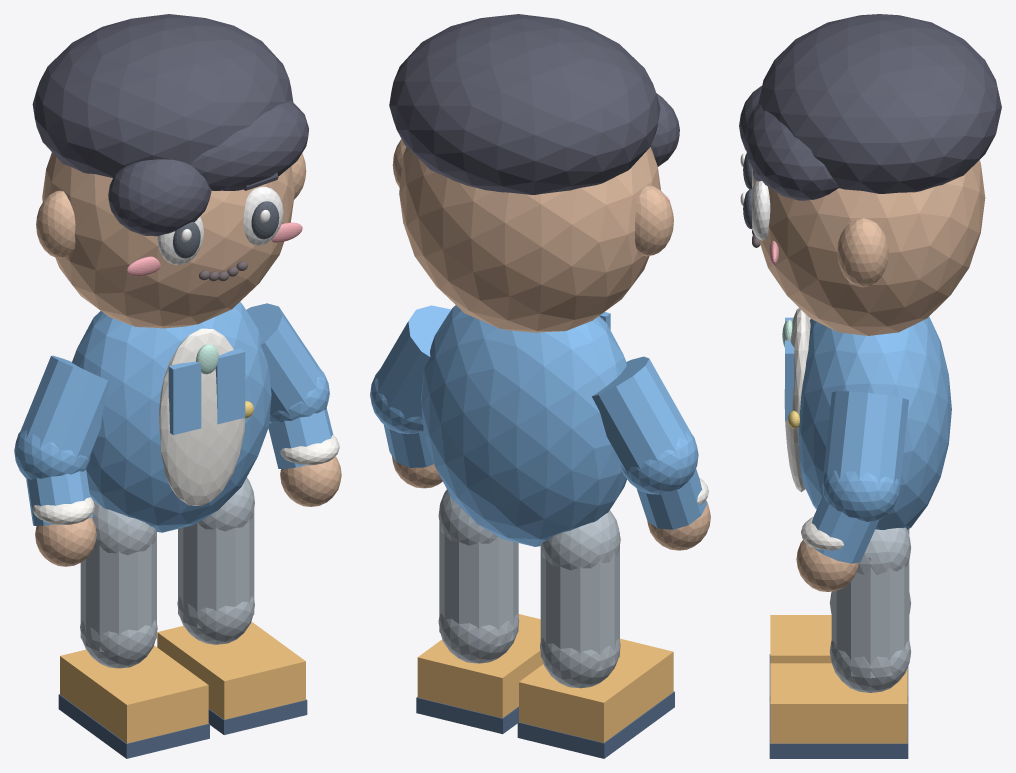
The model's file is avatar_ai_finance.glb.
3 views of the same model, side by side, from view 1: azimuth 30°, elevation 25°; view 2: azimuth 150°, elevation 25°; view 3: azimuth 270°, elevation 25° (orthographic). The views are drawn at different scales.
Parts seen in each view (by area): view 1: hair_cap, torso, head, L_shoe, R_shoe, shirt_front, R_leg, fringe, L_leg, hair_sweep, L_sleeve_upper, R_sleeve_upper (+21 smaller); view 2: hair_cap, torso, head, L_shoe, R_shoe, L_leg, R_leg, L_sleeve_upper, R_sleeve_upper, L_leg_top, L_sole, L_elbow (+11 smaller); view 3: hair_cap, head, torso, R_shoe, R_sleeve_upper, R_leg, hair_sweep, L_shoe, R_elbow, ear_R, R_leg_bottom, R_sole (+8 smaller).
Part boxes in pixels (<box>): hair_cap: <box>32,14,293,177</box>; torso: <box>72,302,271,532</box>; head: <box>42,152,294,328</box>; L_shoe: <box>60,645,208,743</box>; R_shoe: <box>157,621,305,719</box>; shirt_front: <box>159,328,245,505</box>; R_leg: <box>178,495,254,630</box>; fringe: <box>108,159,211,236</box>; L_leg: <box>80,532,156,653</box>; hair_sweep: <box>190,100,308,190</box>; L_sleeve_upper: <box>18,355,110,464</box>; R_sleeve_upper: <box>246,303,324,419</box>; hair_cap: <box>389,14,660,194</box>; torso: <box>421,305,626,546</box>; head: <box>399,147,660,332</box>; L_shoe: <box>519,638,673,742</box>; R_shoe: <box>417,614,543,718</box>; L_leg: <box>540,533,619,672</box>; R_leg: <box>439,508,518,648</box>; L_sleeve_upper: <box>592,356,692,475</box>; R_sleeve_upper: <box>374,305,450,421</box>; L_leg_top: <box>540,510,620,570</box>; L_sole: <box>517,691,674,758</box>; L_elbow: <box>620,430,698,494</box>; hair_cap: <box>758,14,1001,193</box>; head: <box>753,160,985,335</box>; torso: <box>798,316,951,529</box>; R_shoe: <box>770,663,907,743</box>; R_sleeve_upper: <box>823,391,908,488</box>; R_leg: <box>831,555,909,678</box>; hair_sweep: <box>744,103,838,200</box>; L_shoe: <box>770,615,831,663</box>; R_elbow: <box>822,470,900,521</box>; ear_R: <box>837,218,888,287</box>; R_leg_bottom: <box>829,640,911,692</box>; R_sole: <box>769,702,908,758</box>.
Size of the model in its own units: 0.972 by 2.03 by 0.71.
